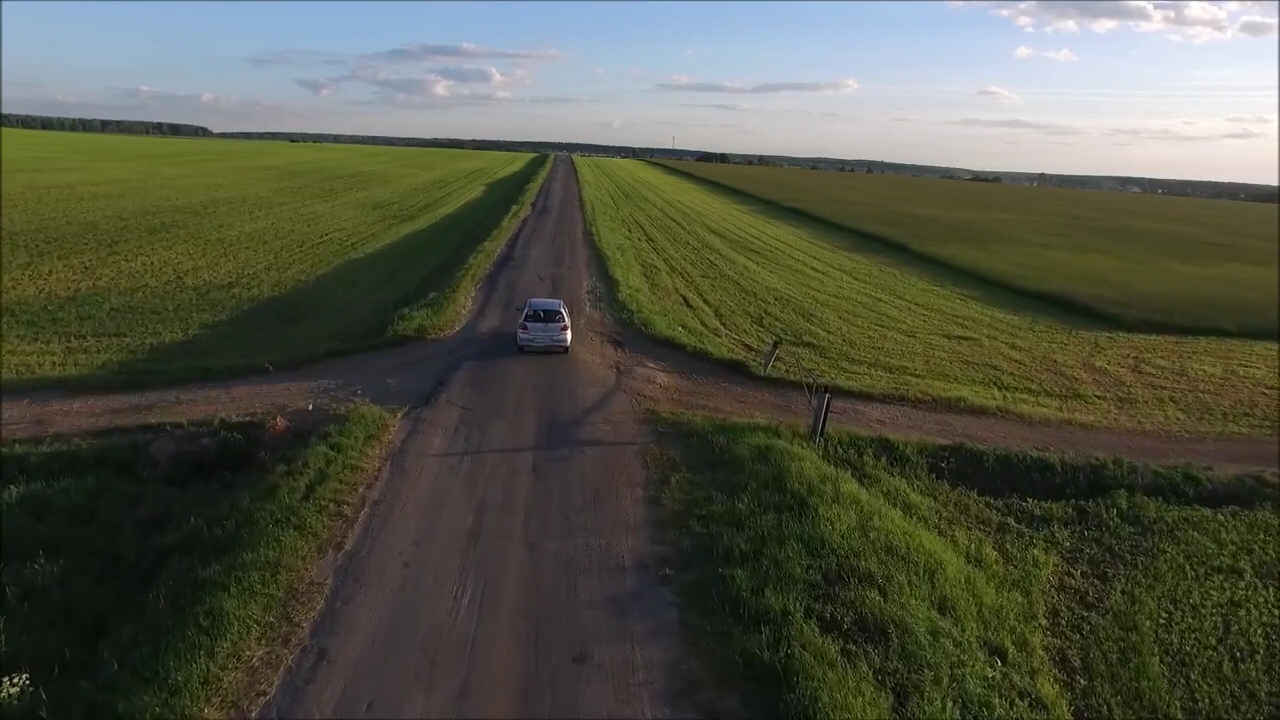araba: (516, 298, 572, 349)
